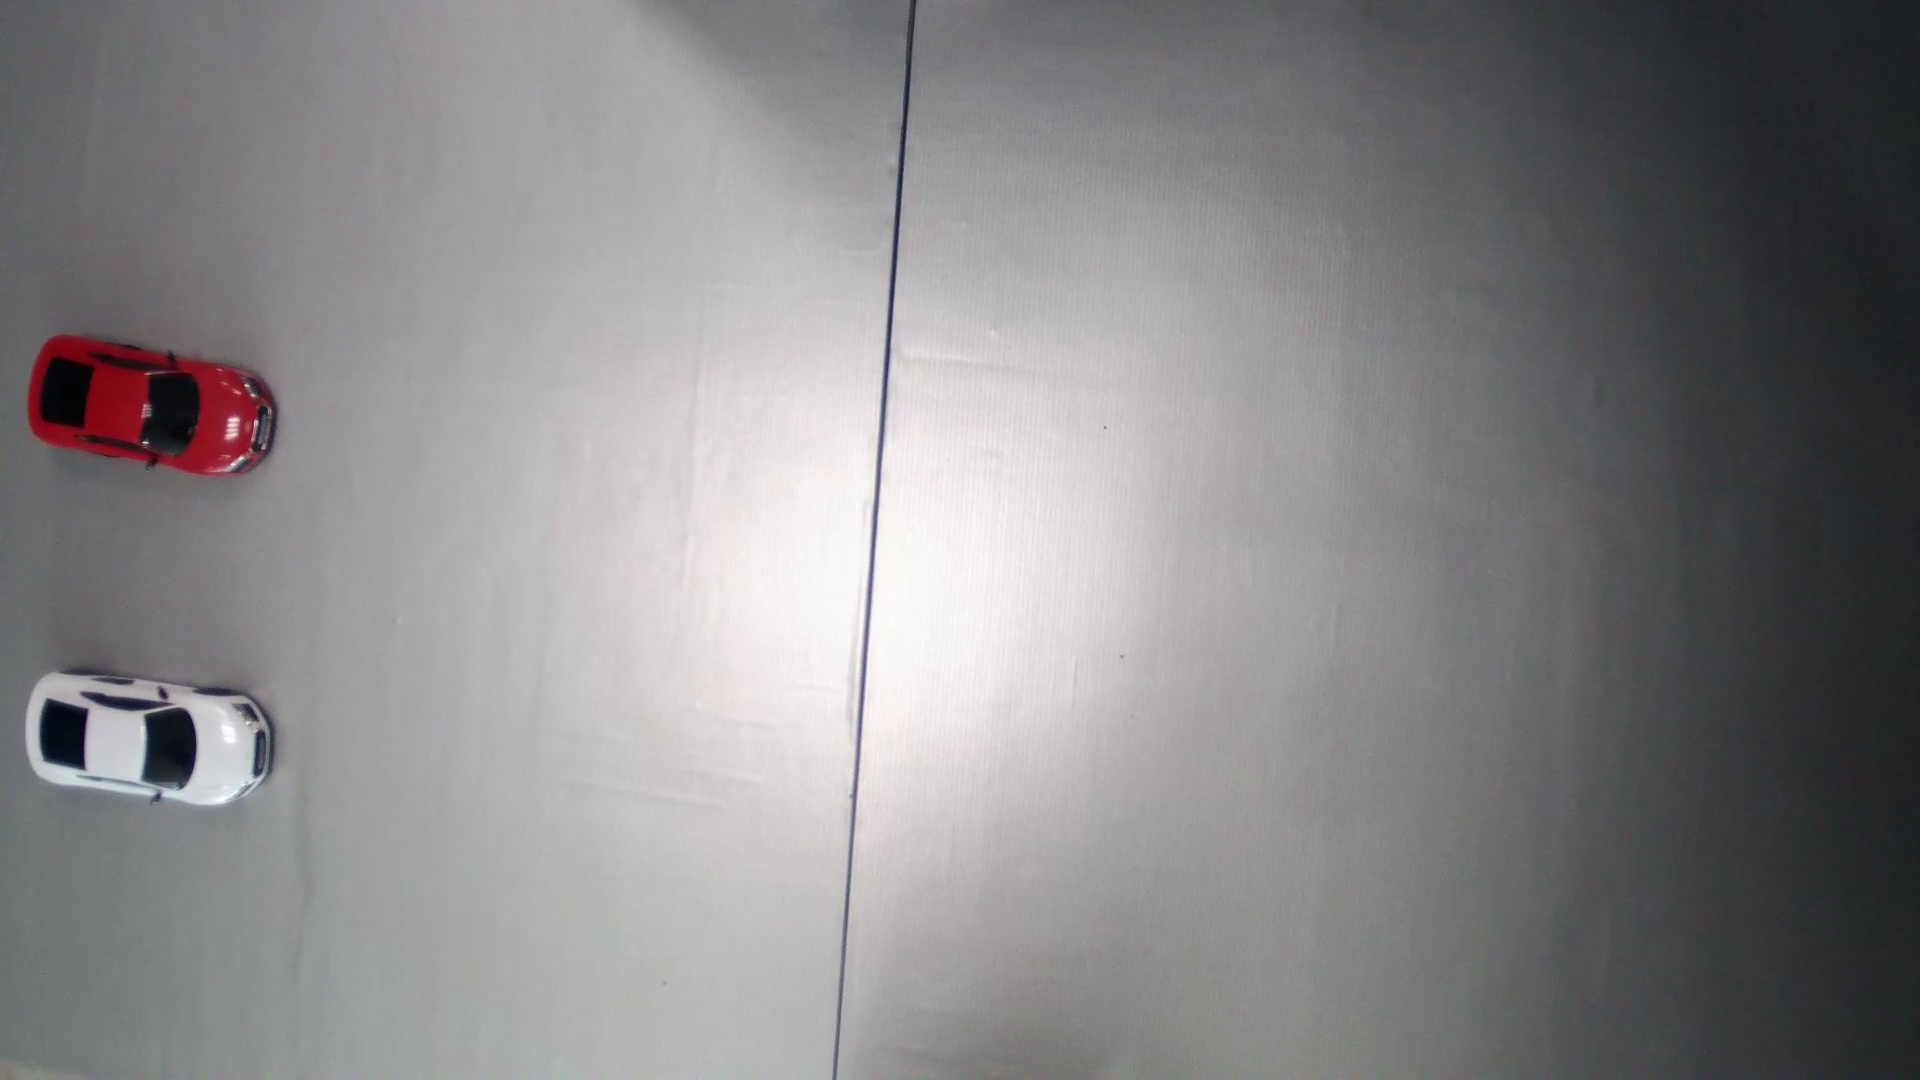remote_car: (26, 334, 282, 473), (24, 669, 273, 807)
